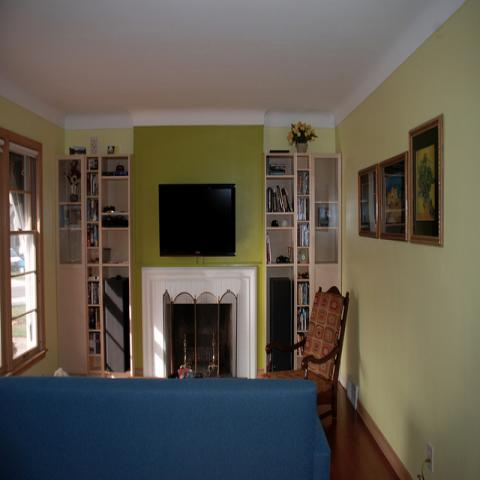car: (10, 248, 24, 271)
